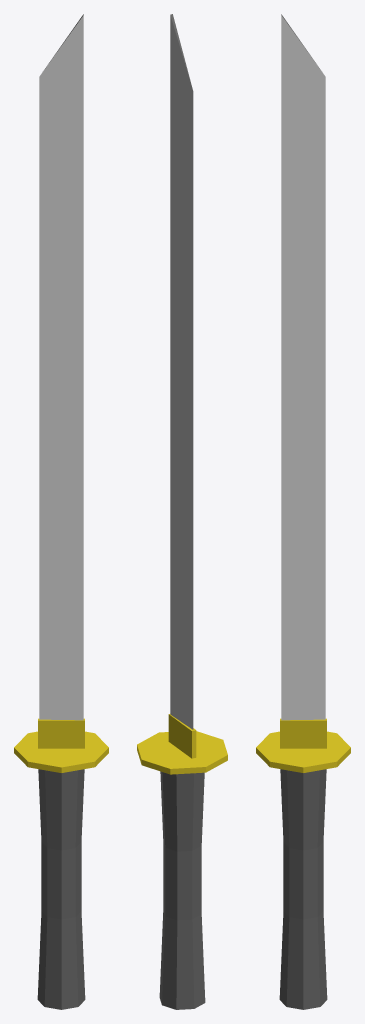
The model's file is katana.glb.
3 views of the same model, side by side, from view 1: azimuth 90°, elevation 25°; view 2: azimuth 210°, elevation 25°; view 3: azimuth 270°, elevation 25° (orthographic).
Visible parts, largest first — view 1: Cylinder; view 2: Cylinder; view 3: Cylinder.
Part boxes in pixels (<box>): Cylinder: <box>14,14,108,1009</box>; Cylinder: <box>137,14,227,1009</box>; Cylinder: <box>256,14,350,1009</box>.
Bounding box in the file's own units: 0.8861 × 10.15 × 0.8861.
